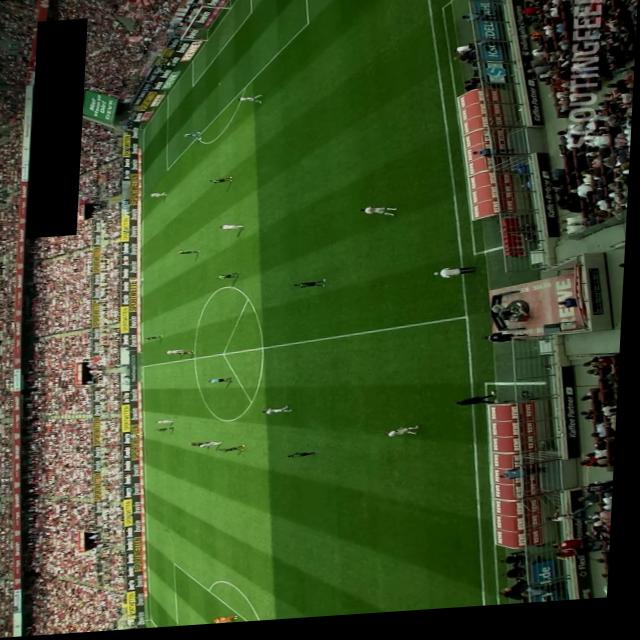goalkeeper: (219, 618, 245, 627), (184, 134, 204, 141)
player: (362, 210, 400, 224), (388, 430, 424, 442), (296, 283, 329, 293), (238, 97, 264, 108), (266, 409, 297, 418), (292, 455, 323, 462), (222, 448, 250, 455), (222, 226, 247, 233), (218, 275, 242, 282), (211, 179, 235, 186), (203, 444, 227, 450), (167, 351, 189, 357), (194, 444, 218, 449), (129, 278, 149, 284), (180, 251, 202, 256), (151, 193, 169, 199), (178, 352, 199, 357), (161, 421, 180, 426), (160, 429, 178, 434), (149, 336, 167, 341)
referee: (127, 434, 150, 441), (211, 380, 236, 386)
